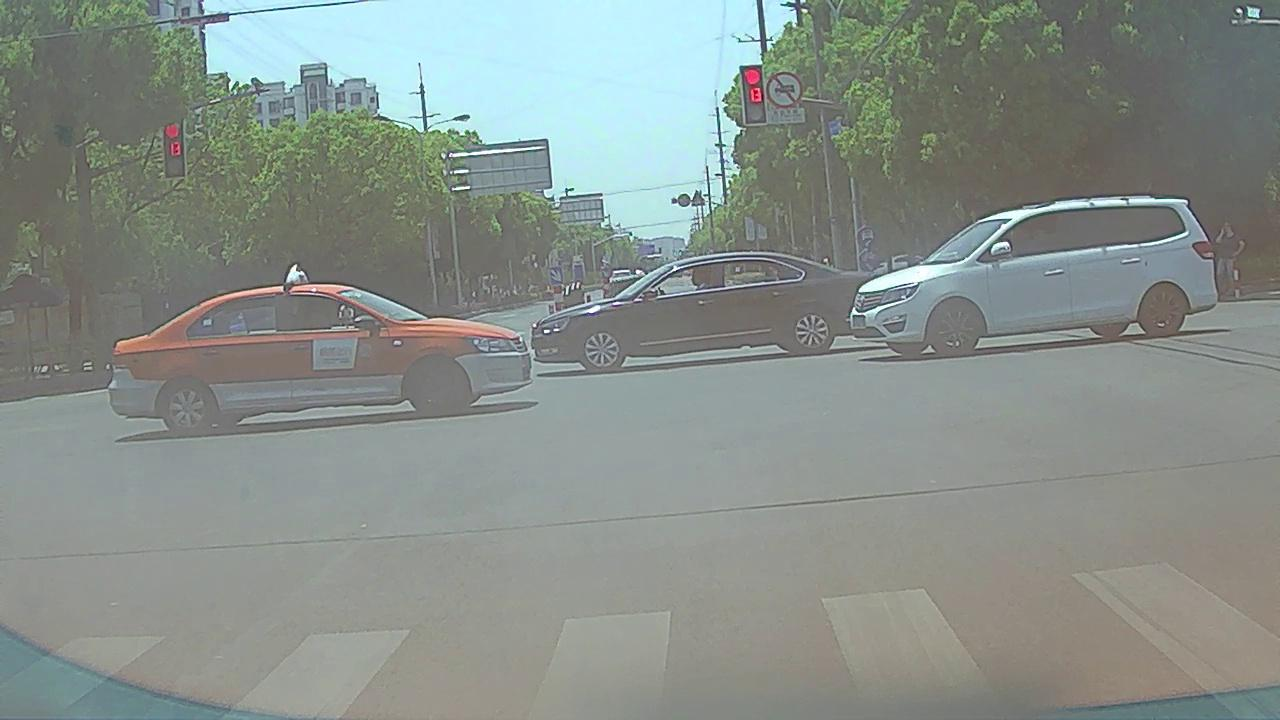traffic_light: (742, 67, 769, 123), (161, 121, 185, 177)
